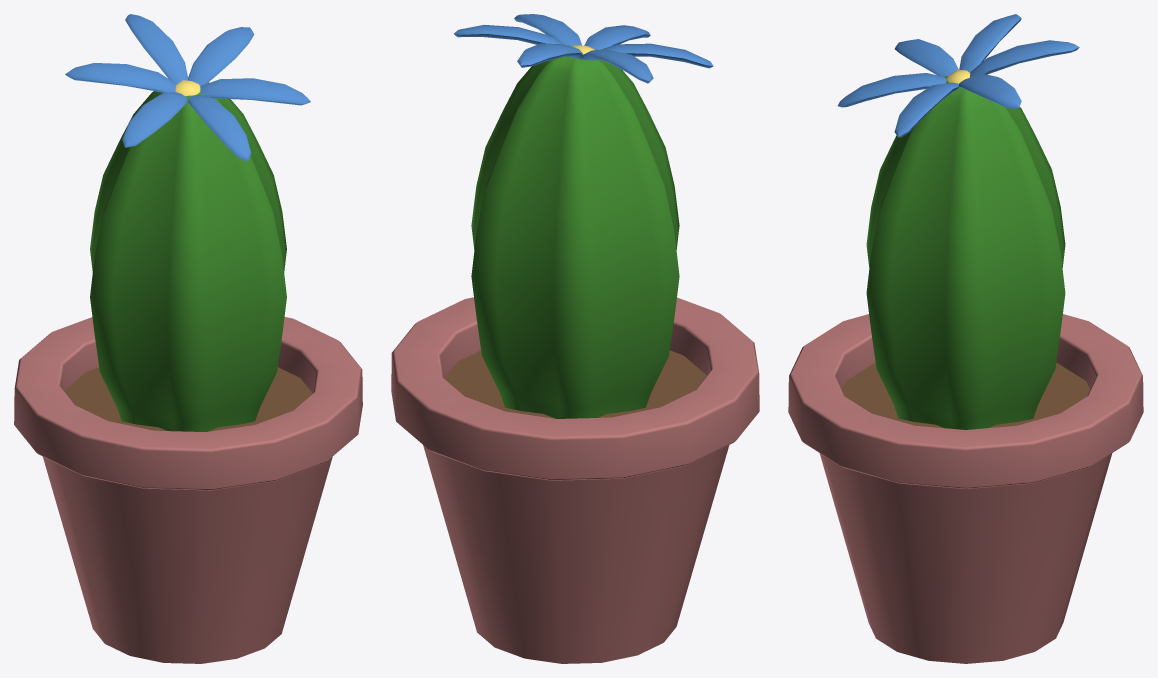
File: Cactus_6.glb
3 renders of one model, left to right at view 1: azimuth 30°, elevation 25°; view 2: azimuth 150°, elevation 25°; view 3: azimuth 270°, elevation 25°, orthographic. The views are drawn at different scales.
Parts seen in each view (by area): view 1: Cactus_6; view 2: Cactus_6; view 3: Cactus_6.
Part boxes in pixels (bbox=[...]): Cactus_6: bbox=[14, 14, 362, 663]; Cactus_6: bbox=[391, 14, 759, 663]; Cactus_6: bbox=[788, 14, 1143, 663].
Size of the model in its own units: 0.1587 by 0.2858 by 0.1587.
Materials: 1 (1 with a texture image).
